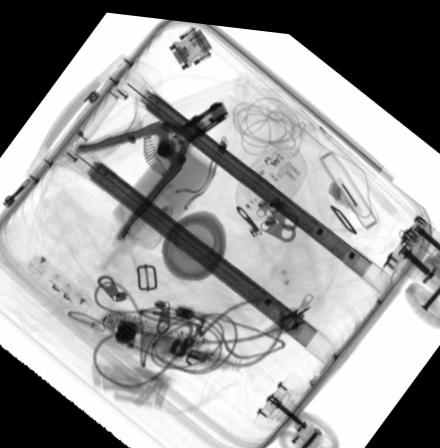Pliers: (73, 96, 227, 238)
